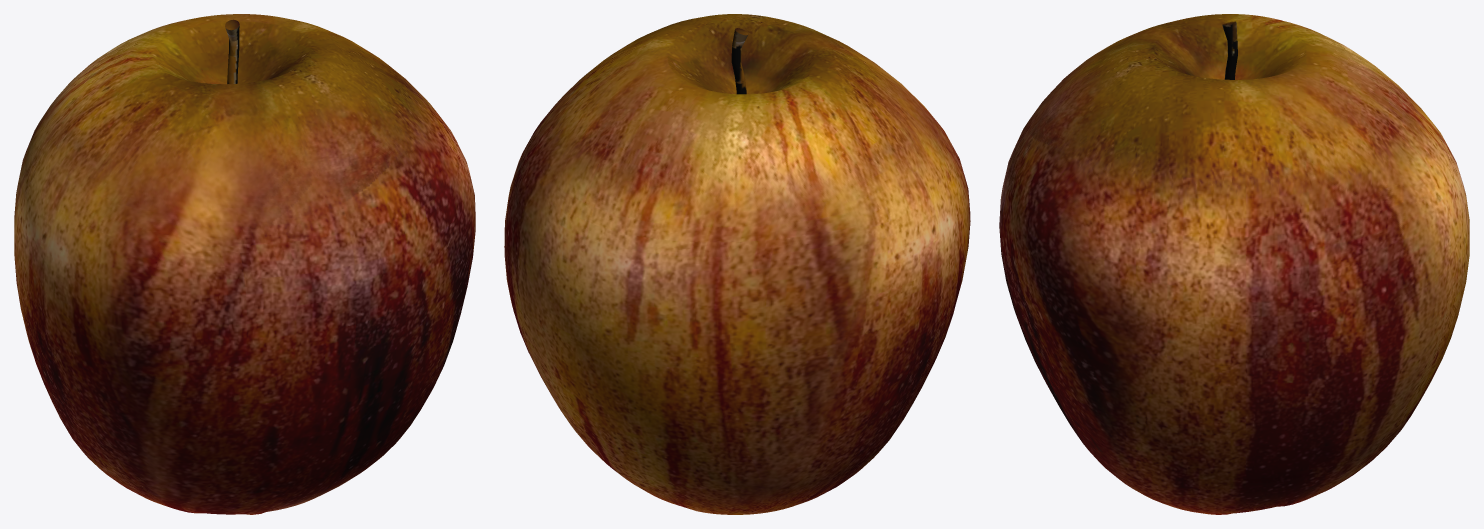
File: apple.fbx
3 renders of one model, left to right at view 1: azimuth 30°, elevation 25°; view 2: azimuth 150°, elevation 25°; view 3: azimuth 270°, elevation 25°, orthographic. The views are drawn at different scales.
Visible parts, largest first — view 1: Sphere; view 2: Sphere; view 3: Sphere.
Boxes of the visible parts, box(x1,y1,x2,y2) form: Sphere: box(14, 14, 475, 514); Sphere: box(504, 14, 970, 514); Sphere: box(999, 14, 1469, 514).
Size of the model in its own units: 9.08 by 10.03 by 9.21.
Materials: 1 (1 with a texture image).
